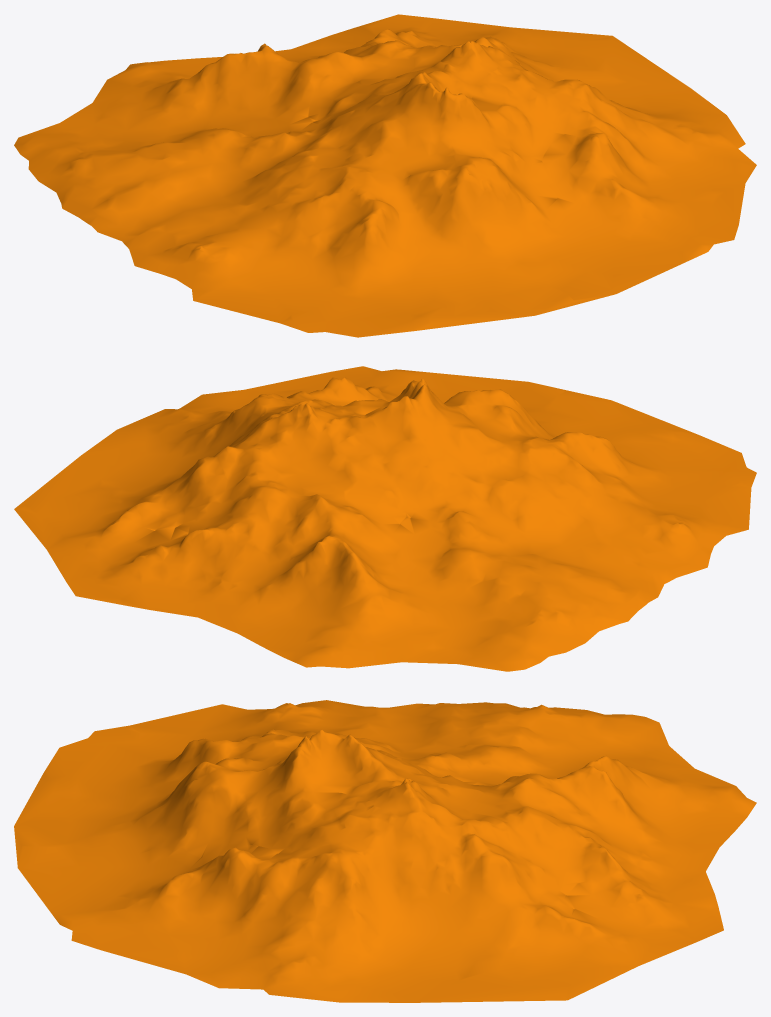
The model's file is Mountain3.fbx.
3 views of the same model, one above another, from view 1: azimuth 30°, elevation 25°; view 2: azimuth 150°, elevation 25°; view 3: azimuth 270°, elevation 25° (orthographic). The views are drawn at different scales.
Visible parts, largest first — view 1: Mountain3; view 2: Mountain3; view 3: Mountain3.
Boxes of the visible parts, x1,y1,x2,y2 form: Mountain3: (14, 14, 756, 337); Mountain3: (14, 366, 756, 671); Mountain3: (14, 700, 756, 1002).
Size of the model in its own units: 1698 by 309 by 1760.
